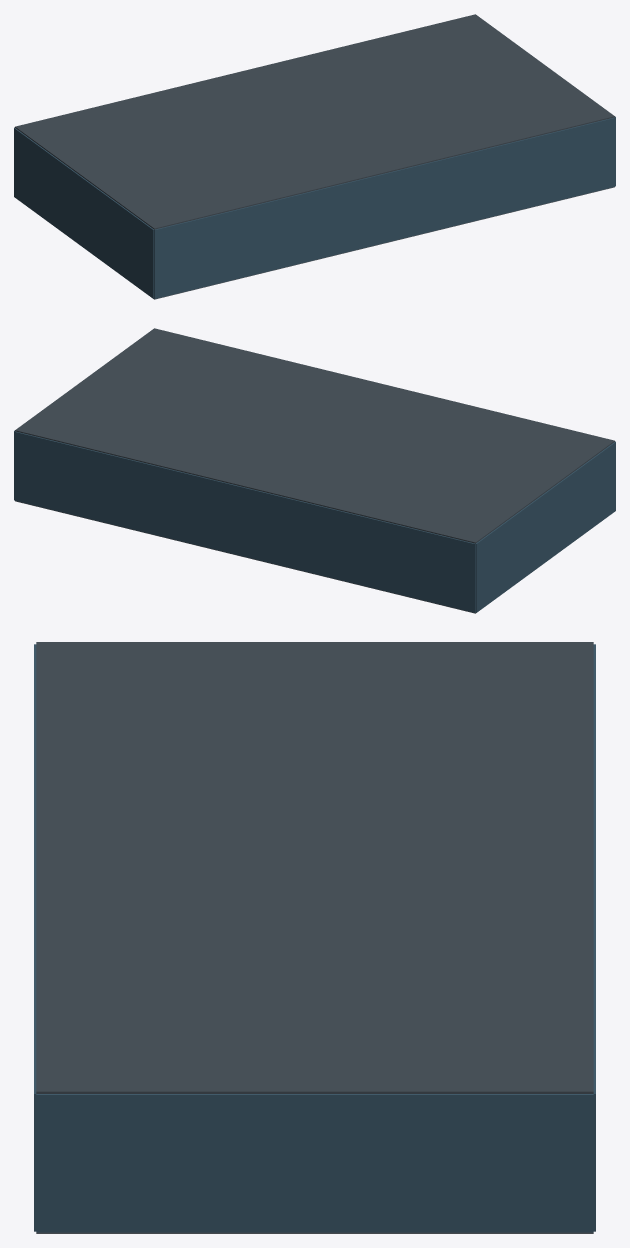
3 views of the same model, one above another, from view 1: azimuth 30°, elevation 25°; view 2: azimuth 150°, elevation 25°; view 3: azimuth 270°, elevation 25° (orthographic). The views are drawn at different scales.
Visible parts, largest first — view 1: Ceiling_Main, Wall_South, Wall_West, Floor_Main; view 2: Ceiling_Main, Wall_North, Wall_West, Floor_Main; view 3: Ceiling_Main, Wall_East, Wall_North, Wall_South, Floor_Main.
Part boxes in pixels (x1,y1,x2,y2): Ceiling_Main: (15, 14, 614, 229); Wall_South: (154, 117, 615, 298); Wall_West: (14, 128, 154, 298); Floor_Main: (153, 187, 614, 299); Ceiling_Main: (15, 328, 614, 543); Wall_North: (14, 431, 475, 612); Wall_West: (475, 442, 615, 612); Floor_Main: (15, 501, 476, 613); Ceiling_Main: (36, 642, 593, 1093); Wall_East: (36, 1094, 593, 1232); Wall_North: (593, 644, 595, 1231); Wall_South: (34, 644, 36, 1231); Floor_Main: (36, 1232, 593, 1233).
Bounding box in the file's own units: 42.2 × 7.6 × 22.2.
